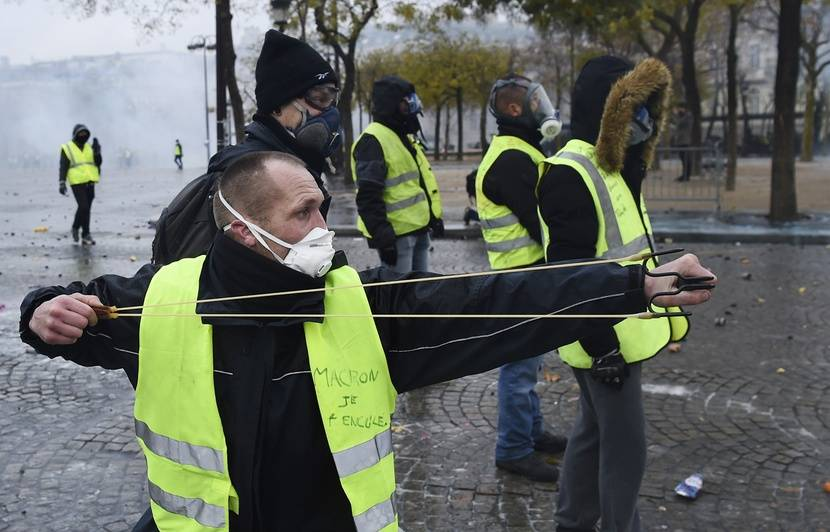with_mask: (248, 188, 327, 283), (291, 86, 339, 146)
